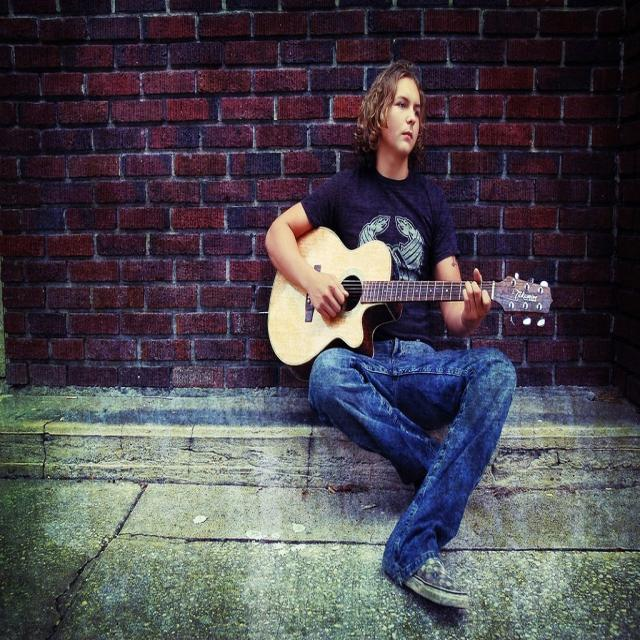guitar: (262, 222, 555, 370)
